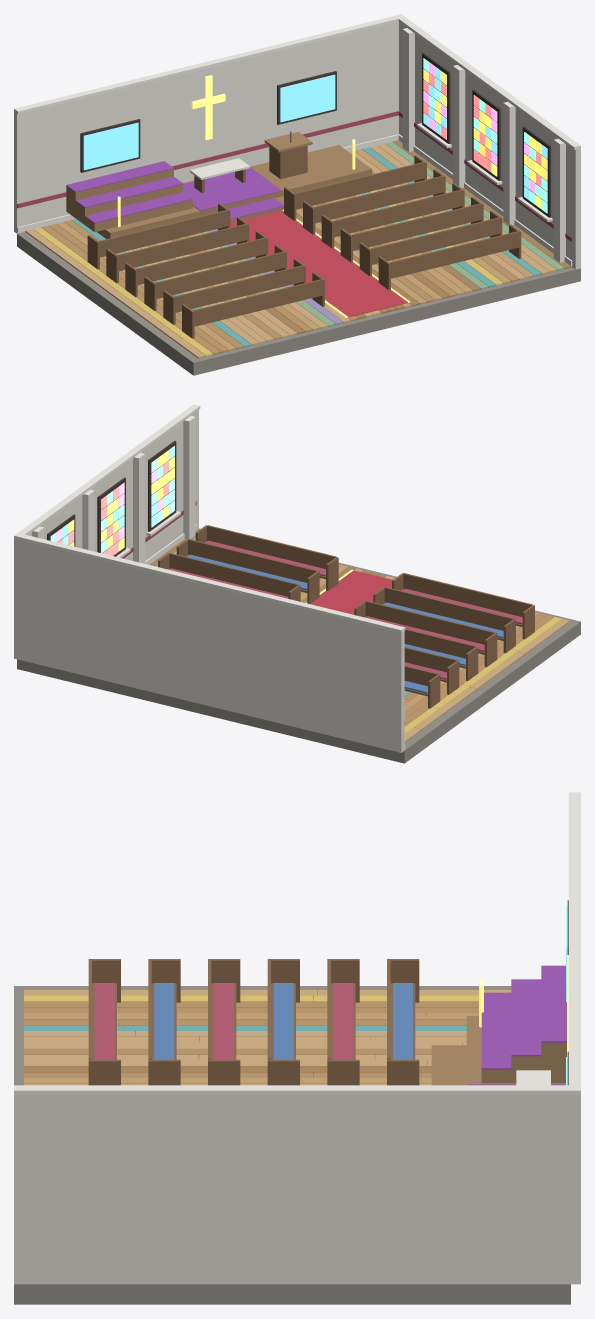
Rendered from church.glb.
The picture shows the model from 3 angles, top to bottom: view 1: azimuth 30°, elevation 25°; view 2: azimuth 150°, elevation 25°; view 3: azimuth 270°, elevation 25°; orthographic projection. The views are drawn at different scales.
Parts seen in each view (by area): view 1: Wall, Pew, Trim, Slab, Platform, CarpetAltar, Carpet, WoodN3, WoodN0, Screen, WoodN1, Dark (+12 smaller); view 2: Wall, Pew, Trim, Slab, CushionA, Carpet, Dark, WoodN3, CushionB, WoodC2, WoodN0, Stained3 (+5 smaller); view 3: Wall, Pew, Slab, Trim, WoodN3, WoodN0, CarpetAltar, CushionA, CushionB, Platform, WoodN1, WoodC2 (+2 smaller).
Boxes of the visible parts, box(x1,y1,x2,y2) form: Wall: box(14, 21, 580, 269); Pew: box(87, 145, 521, 338); Trim: box(14, 14, 580, 266); Slab: box(17, 232, 580, 375); Platform: box(66, 131, 372, 238); CarpetAltar: box(66, 161, 283, 223); Carpet: box(230, 210, 408, 317); WoodN3: box(25, 143, 556, 358); WoodN0: box(41, 172, 518, 354); Screen: box(83, 74, 335, 170); WoodN1: box(56, 149, 534, 350); Dark: box(80, 53, 550, 217); Wall: box(14, 410, 404, 752); Pew: box(158, 525, 534, 708); Trim: box(14, 404, 405, 748); Slab: box(17, 528, 580, 763); CushionA: box(169, 540, 522, 679); Carpet: box(310, 570, 392, 614); Dark: box(47, 440, 176, 556); WoodN3: box(384, 576, 569, 742); CushionB: box(187, 554, 503, 693); WoodC2: box(404, 617, 561, 733); WoodN0: box(300, 564, 554, 726); Stained3: box(50, 459, 174, 553); Wall: box(14, 1095, 580, 1284); Pew: box(88, 959, 419, 1085); Slab: box(14, 986, 570, 1304); Trim: box(14, 792, 580, 1095); WoodN3: box(24, 990, 511, 1085); WoodN0: box(24, 1001, 478, 1079); CarpetAltar: box(466, 965, 566, 1085); CushionA: box(94, 983, 353, 1059); CushionB: box(154, 983, 412, 1059); Platform: box(431, 1016, 566, 1085); WoodN1: box(24, 1013, 478, 1084); WoodC2: box(24, 995, 478, 1003).
Bounding box in the file's own units: 14.2 × 4.75 × 11.4.
